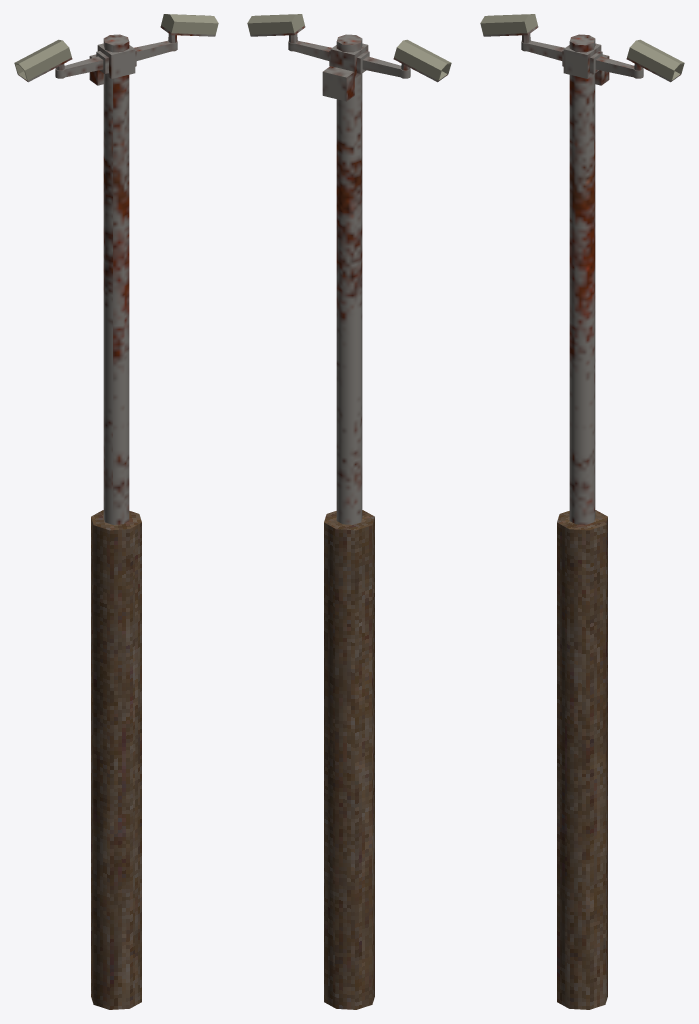
File: pro4.glb
3 renders of one model, left to right at view 1: azimuth 30°, elevation 25°; view 2: azimuth 150°, elevation 25°; view 3: azimuth 330°, elevation 25°, orthographic.
Visible parts, largest first — view 1: CameraPole, Camera2, Camera1; view 2: CameraPole, Camera2, Camera1; view 3: CameraPole, Camera1, Camera2.
Boxes of the visible parts, x1=… form: CameraPole: x1=55, y1=34, x2=177, y2=1009; Camera2: x1=14, y1=39, x2=72, y2=82; Camera1: x1=160, y1=14, x2=218, y2=42; CameraPole: x1=288, y1=34, x2=410, y2=1009; Camera2: x1=393, y1=39, x2=451, y2=82; Camera1: x1=247, y1=14, x2=305, y2=42; CameraPole: x1=521, y1=34, x2=643, y2=1009; Camera1: x1=626, y1=39, x2=684, y2=82; Camera2: x1=480, y1=14, x2=538, y2=42.
Bounding box in the file's own units: 0.8533 × 4.05 × 0.212.
4 materials, 3 textured.
